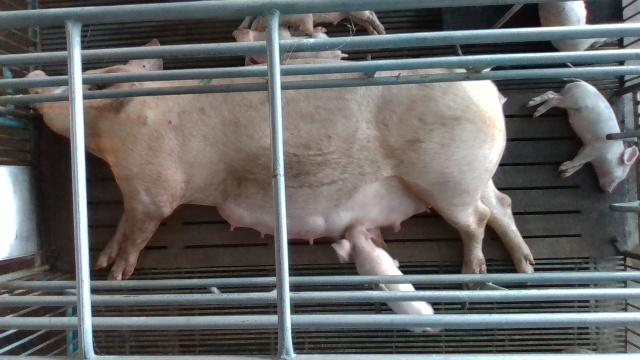piglet: (529, 78, 640, 192), (331, 227, 447, 334), (232, 26, 348, 65), (251, 13, 345, 48), (313, 11, 384, 33)
sow-sleep-lactate: (24, 38, 538, 283)
